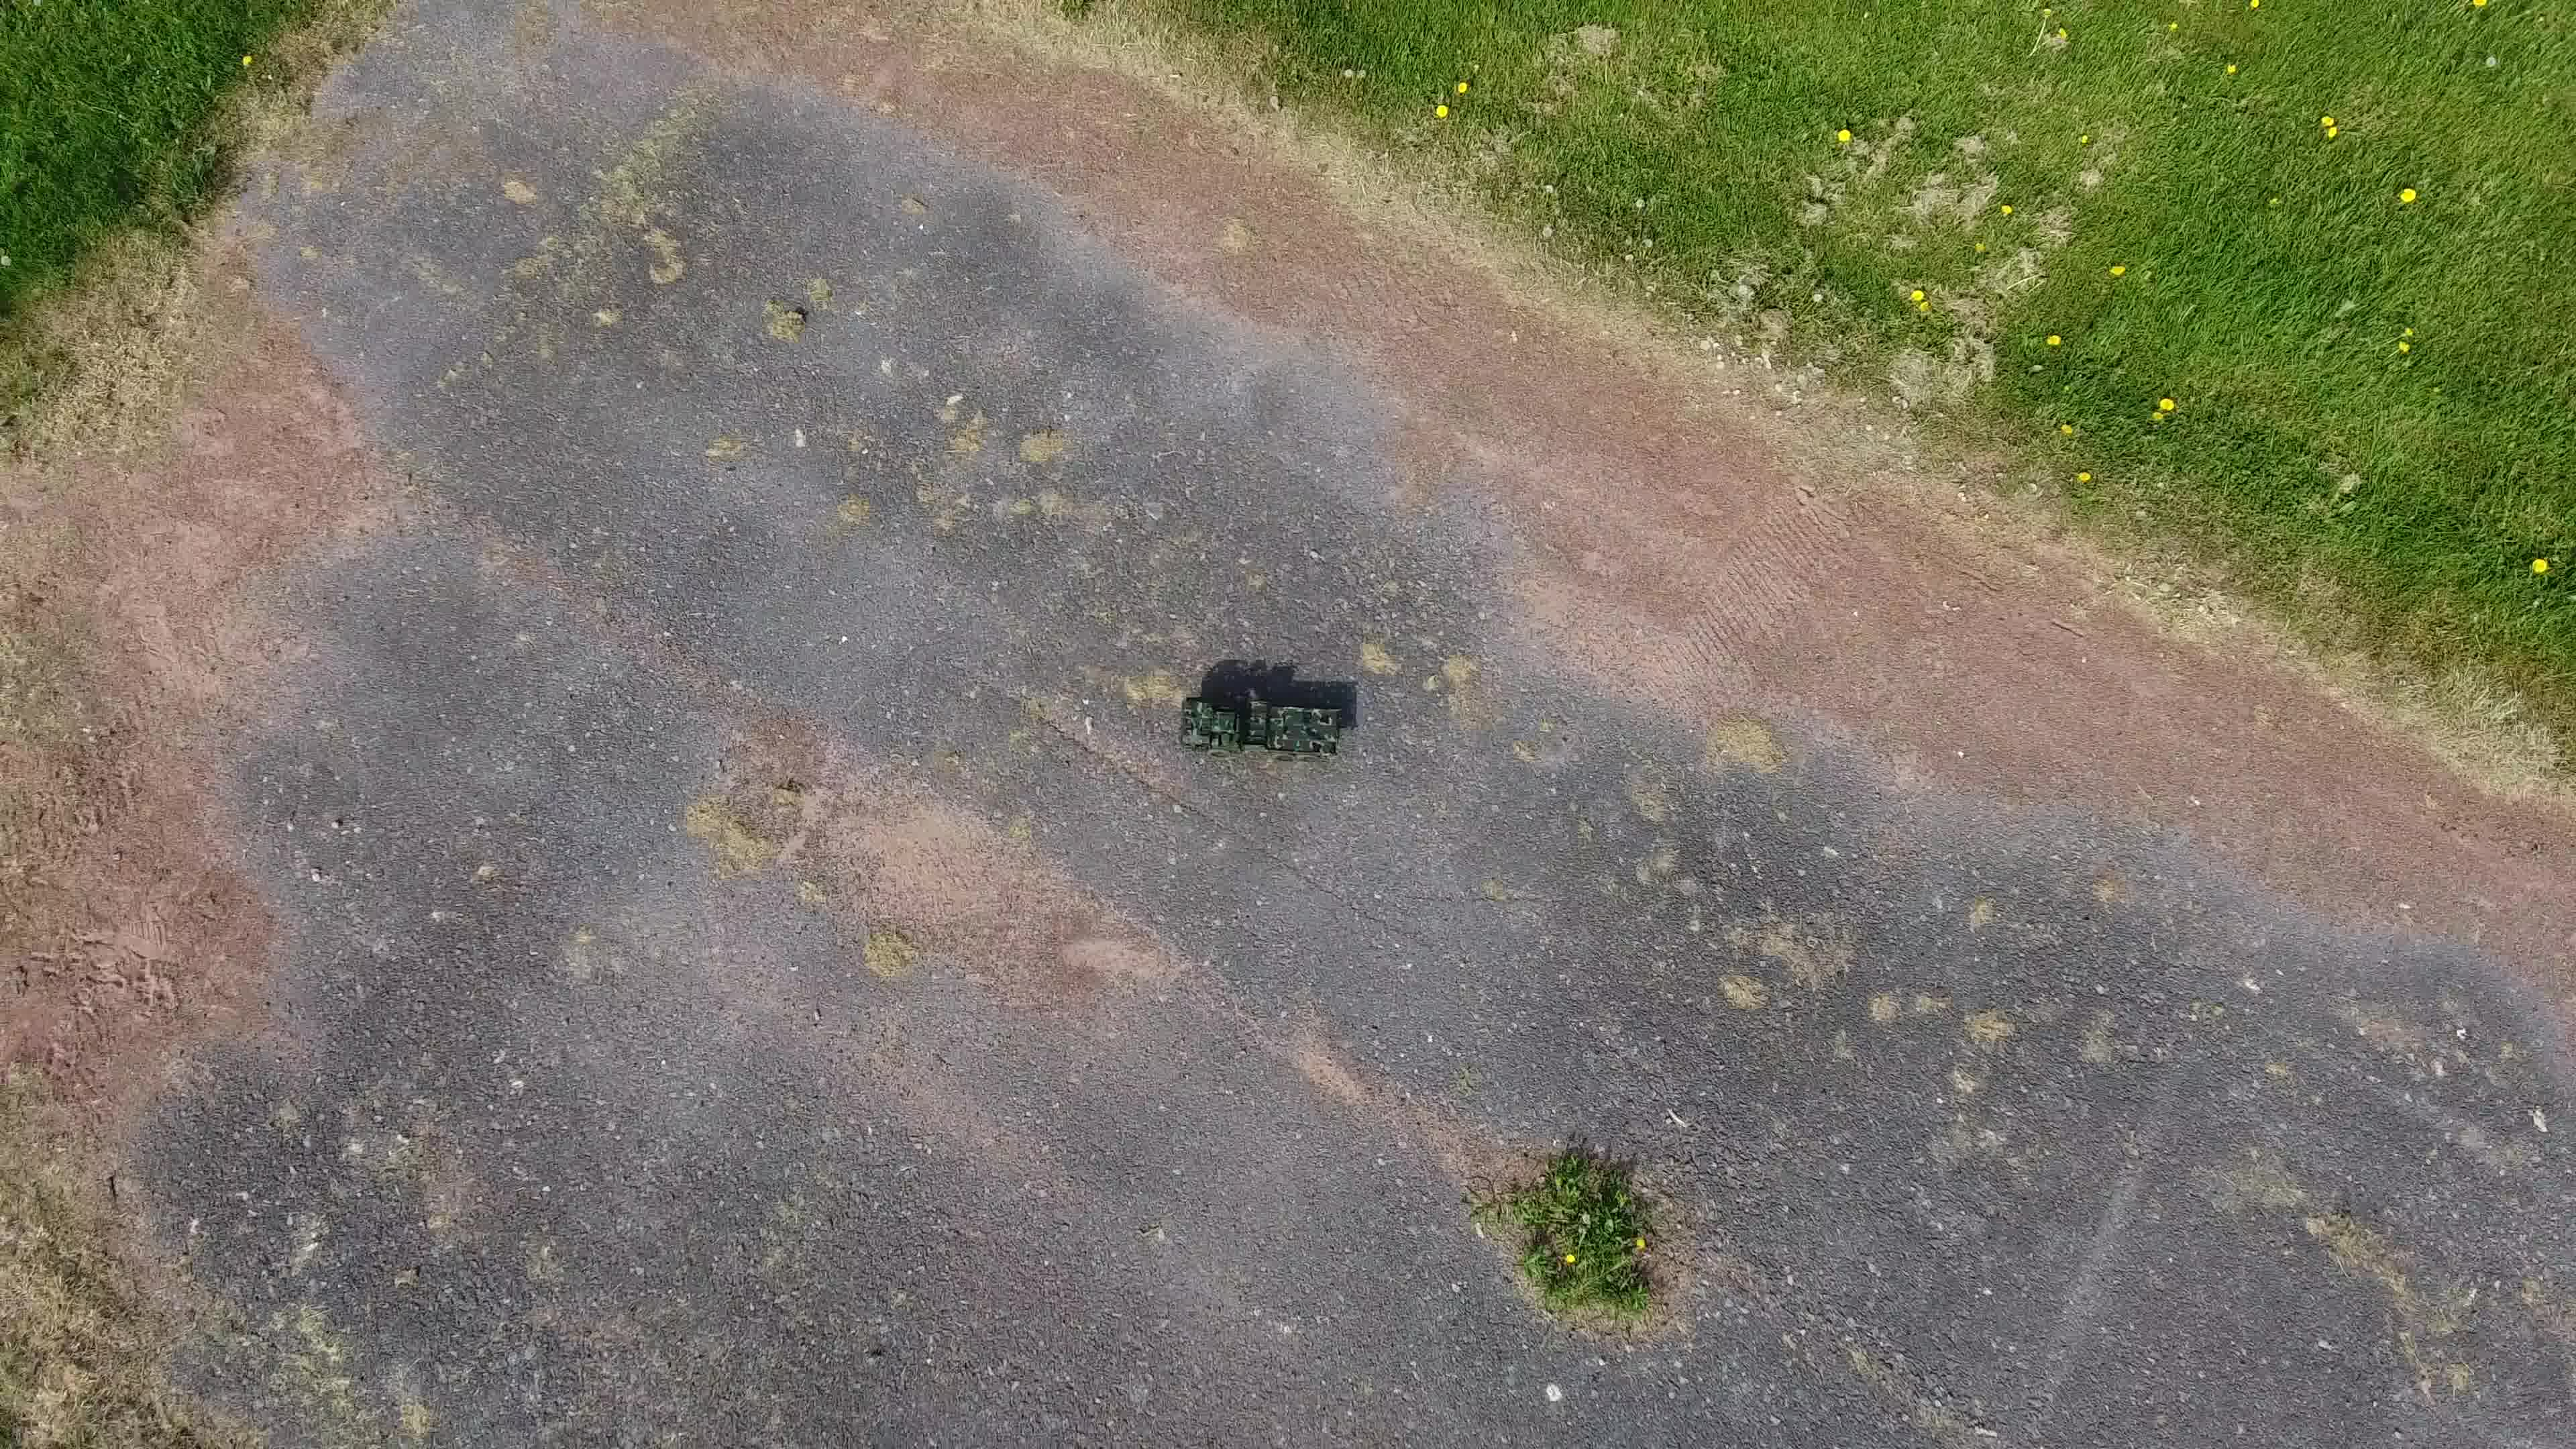transporter9_camo: (1177, 694, 1346, 763)
